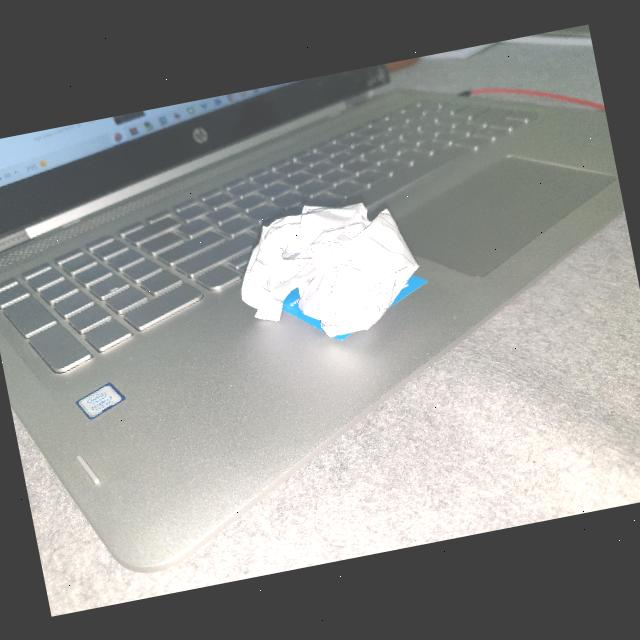trash: (220, 176, 438, 369)
